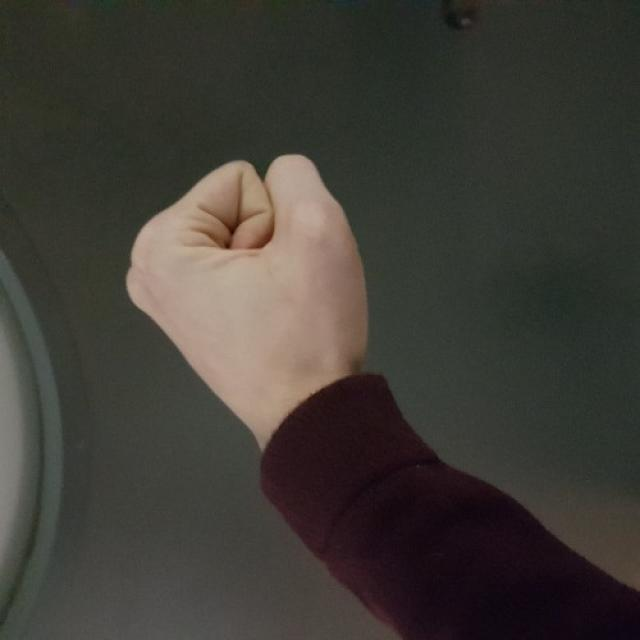rock: (126, 155, 372, 383)
